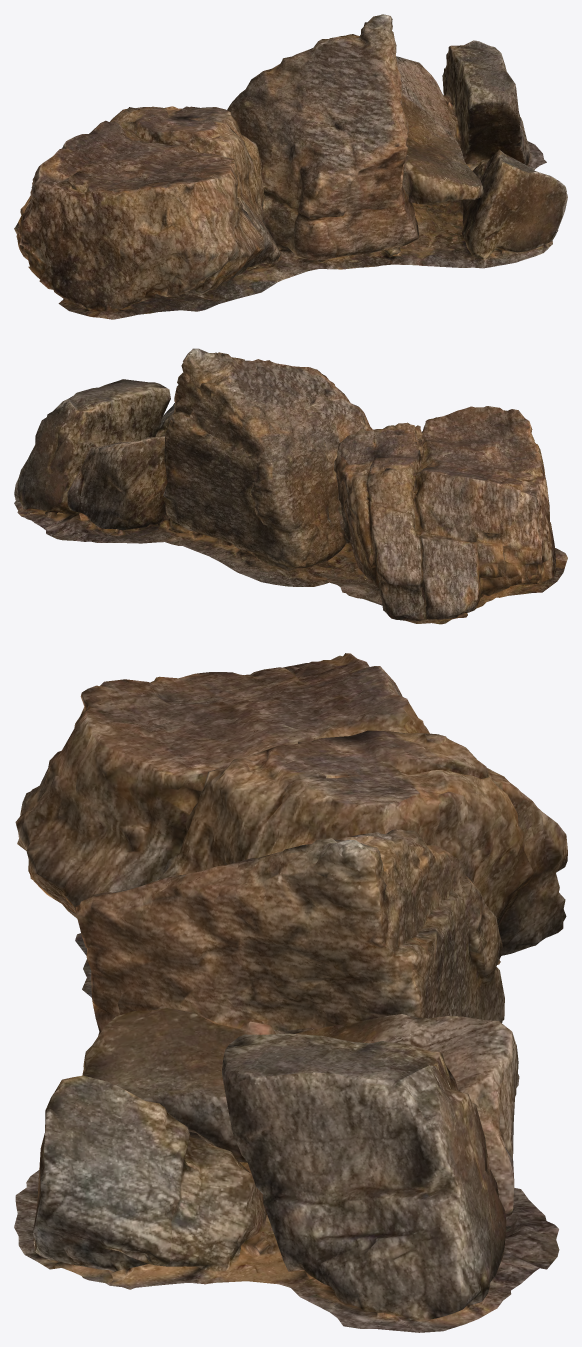
File: namaqualand_boulder_02.glb
3 renders of one model, top to bottom at view 1: azimuth 30°, elevation 25°; view 2: azimuth 150°, elevation 25°; view 3: azimuth 270°, elevation 25°, orthographic. The views are drawn at different scales.
Visible parts, largest first — view 1: boulder_02; view 2: boulder_02; view 3: boulder_02.
Part boxes in pixels (x1,y1,x2,y2): boulder_02: (14, 14, 567, 319); boulder_02: (14, 348, 567, 624); boulder_02: (14, 653, 567, 1332).
Bounding box in the file's own units: 2.53 × 0.8804 × 1.23.
1 material, 1 textured.
